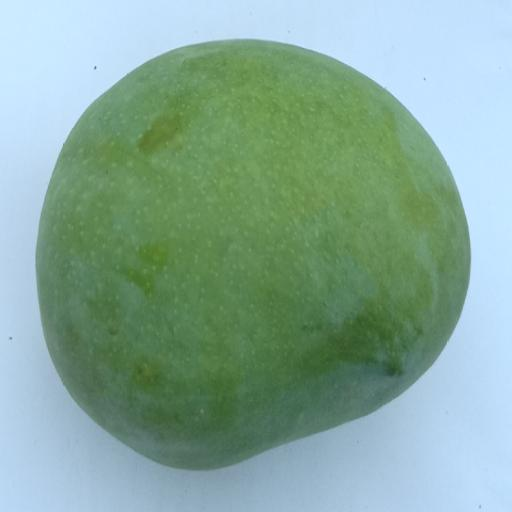mango-unripe: (22, 23, 486, 491)
